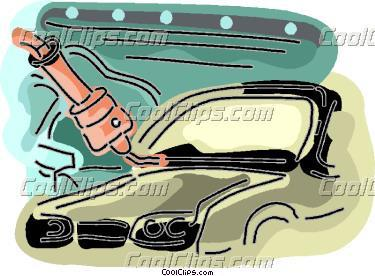car: (24, 81, 354, 255)
